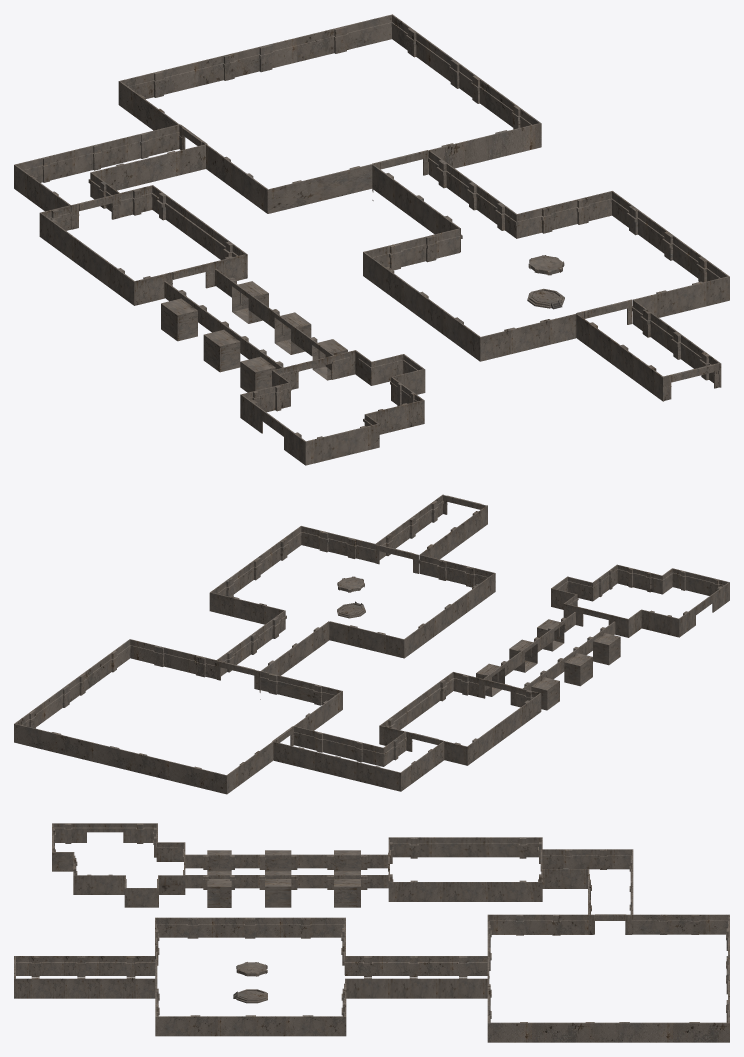
File: paredes_Arriba.obj
The picture shows the model from 3 angles, top to bottom: view 1: azimuth 30°, elevation 25°; view 2: azimuth 150°, elevation 25°; view 3: azimuth 270°, elevation 25°; orthographic projection. The views are drawn at different scales.
Visible parts, largest first — view 1: Cube.259, Cube.238, Cube.257, Cube.109, Cube.267, Cube.250, Cube.242, Cube.255, Cube.222, Cube.064, Cube.275, Cube.281 (+25 smaller); view 2: Cube.259, Cube.238, Cube.257, Cube.109, Cube.242, Cube.255, Cube.267, Cube.222, Cube.110, Cube.265, Cube.250, Cube.275 (+22 smaller); view 3: Cube.257, Cube.267, Cube.109, Cube.228, Cube.222, Cube.263, Cube.279, Cube.261, Cube.281, Cube.210, Cube.039, Cube.246 (+19 smaller).
Boxes of the visible parts, <box> form: Cube.259: <box>119,14,392,99</box>; Cube.238: <box>15,124,179,182</box>; Cube.257: <box>391,14,540,129</box>; Cube.109: <box>363,252,480,361</box>; Cube.267: <box>611,191,729,282</box>; Cube.250: <box>266,164,373,213</box>; Cube.242: <box>89,144,205,190</box>; Cube.255: <box>428,123,541,173</box>; Cube.222: <box>39,212,134,305</box>; Cube.064: <box>480,314,576,361</box>; Cube.275: <box>516,191,612,238</box>; Cube.281: <box>576,314,665,401</box>; Cube.259: <box>14,723,226,794</box>; Cube.238: <box>273,741,400,791</box>; Cube.257: <box>14,639,130,728</box>; Cube.109: <box>404,573,495,658</box>; Cube.242: <box>293,726,384,766</box>; Cube.255: <box>130,639,217,679</box>; Cube.267: <box>210,526,301,596</box>; Cube.222: <box>467,693,541,765</box>; Cube.110: <box>329,621,404,658</box>; Cube.265: <box>301,526,375,562</box>; Cube.250: <box>259,671,342,709</box>; Cube.275: <box>209,592,286,624</box>; Cube.257: <box>487,1022,729,1042</box>; Cube.267: <box>155,1015,346,1036</box>; Cube.109: <box>155,917,345,938</box>; Cube.228: <box>388,880,542,901</box>; Cube.222: <box>389,837,542,858</box>; Cube.263: <box>344,977,487,998</box>; Cube.279: <box>14,977,155,998</box>; Cube.261: <box>344,956,487,976</box>; Cube.281: <box>14,956,155,976</box>; Cube.210: <box>185,854,387,869</box>; Cube.039: <box>185,875,388,889</box>; Cube.246: <box>488,914,589,935</box>.
Bounding box in the file's own units: 156 × 11.17 × 237.
